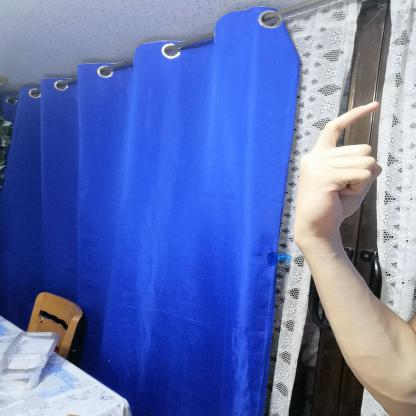RAA: (279, 92, 390, 240)
